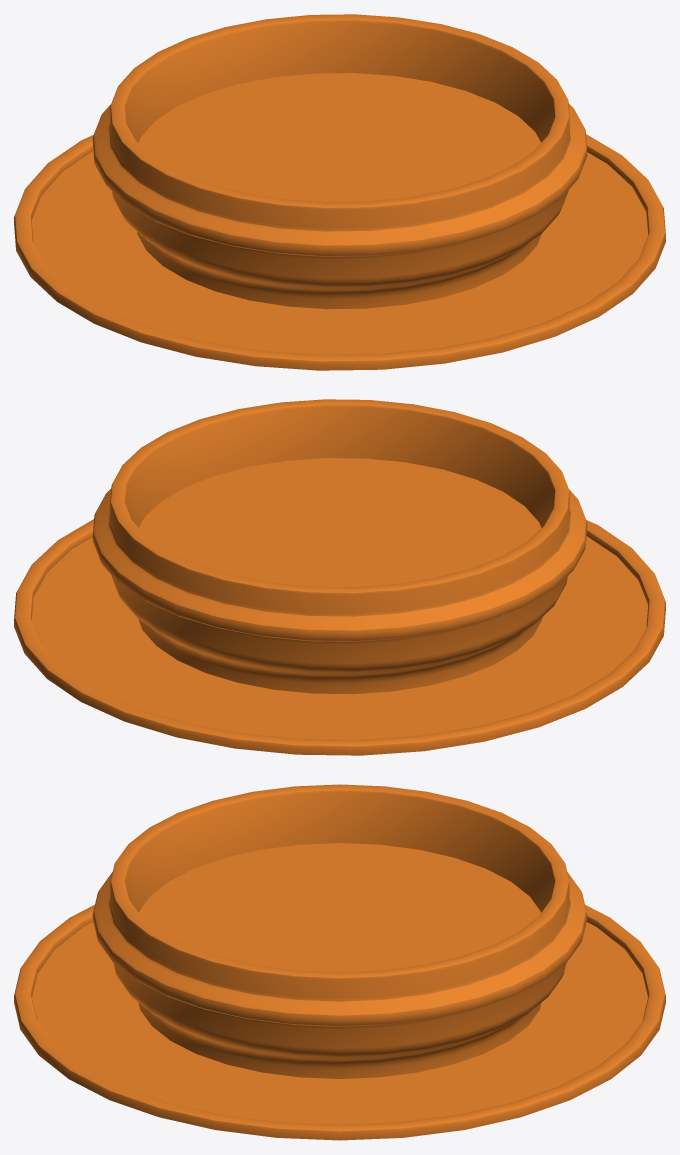
Rendered from bonsai.glb.
3 views of the same model, one above another, from view 1: azimuth 30°, elevation 25°; view 2: azimuth 150°, elevation 25°; view 3: azimuth 270°, elevation 25° (orthographic).
Visible parts, largest first — view 1: Cylinder, Cylinder.001; view 2: Cylinder, Cylinder.001; view 3: Cylinder, Cylinder.001.
Boxes of the visible parts, x1,y1,x2,y2 form: Cylinder: [92, 14, 587, 309]; Cylinder.001: [14, 134, 665, 370]; Cylinder: [92, 399, 587, 694]; Cylinder.001: [14, 519, 665, 755]; Cylinder: [92, 784, 587, 1078]; Cylinder.001: [14, 905, 665, 1140].
Bounding box in the file's own units: 3.2 × 0.6612 × 3.2.
